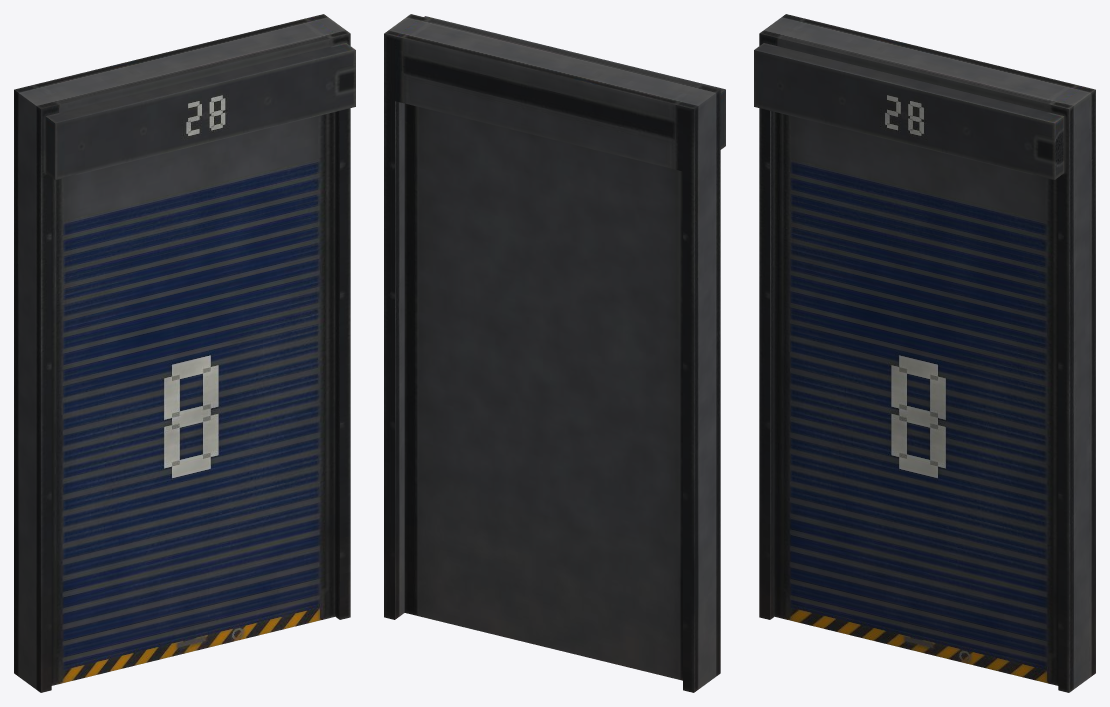
File: roller_door.glb
The picture shows the model from 3 angles, left to right: view 1: azimuth 30°, elevation 25°; view 2: azimuth 150°, elevation 25°; view 3: azimuth 330°, elevation 25°; orthographic projection.
Parts seen in each view (by area): view 1: roller_door; view 2: roller_door; view 3: roller_door.
Part boxes in pixels (x1,y1,x2,y2): roller_door: (14, 14, 355, 692); roller_door: (384, 14, 725, 692); roller_door: (754, 14, 1095, 692).
Bounding box in the file's own units: 2 × 3.6 × 0.41.
1 material, 1 textured.
